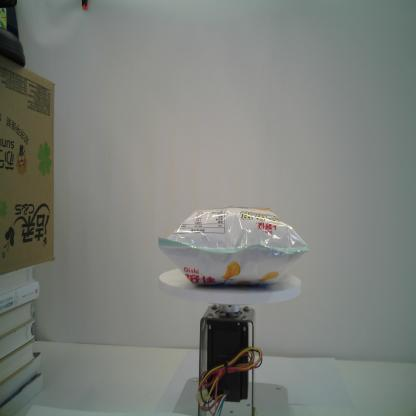Puffed Food: (158, 206, 310, 286)
